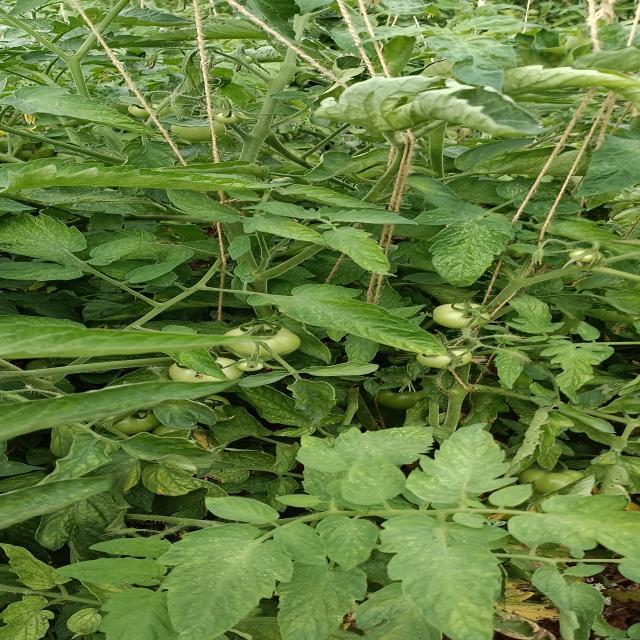Healthy Leaf: (250, 284, 455, 368), (153, 517, 287, 640), (375, 513, 504, 639), (5, 318, 287, 370), (412, 409, 525, 505), (409, 199, 525, 290), (324, 420, 423, 508), (314, 232, 414, 277), (156, 188, 258, 226), (52, 553, 156, 589), (310, 516, 376, 568), (190, 494, 286, 524), (71, 232, 160, 263), (488, 480, 531, 509), (563, 562, 611, 582)
